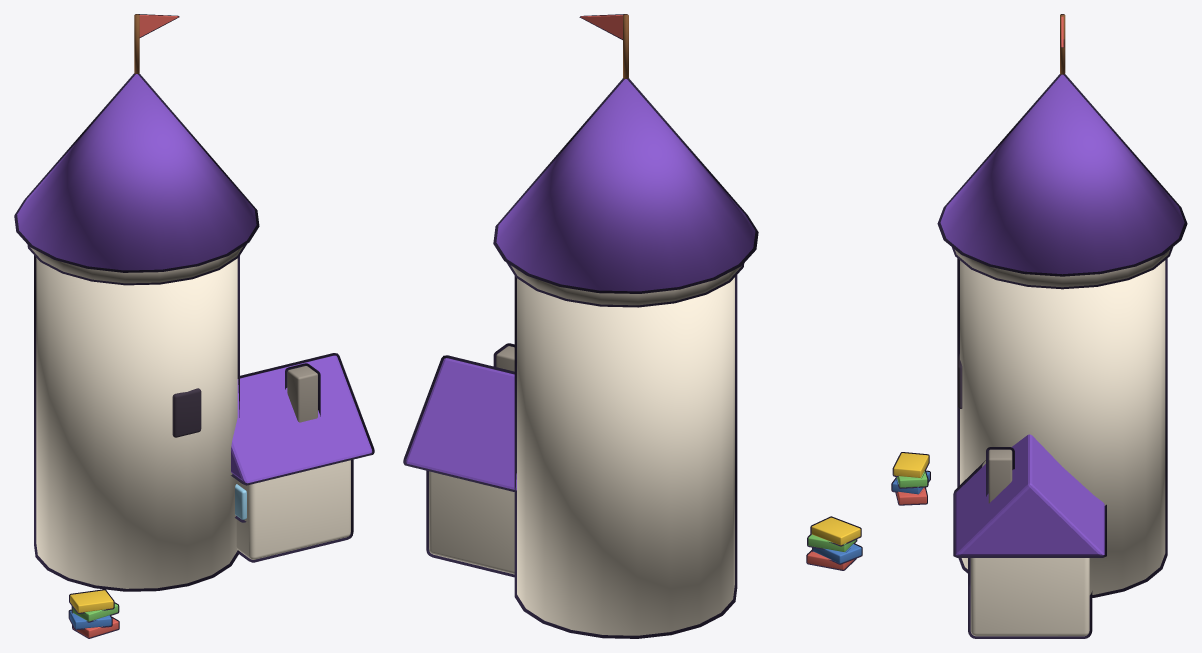
The model's file is library_2.glb.
3 renders of one model, left to right at view 1: azimuth 30°, elevation 25°; view 2: azimuth 150°, elevation 25°; view 3: azimuth 270°, elevation 25°, orthographic. The views are drawn at different scales.
Parts seen in each view (by area): view 1: tower, spire, cottage, rim, box, box.004, shape; view 2: tower, spire, cottage, rim, box.004; view 3: tower, spire, cottage, rim, box.004, box.001.
Part boxes in pixels (x1,y1,x2,y2): tower: (34, 255, 239, 591); spire: (14, 73, 259, 272); cottage: (231, 353, 374, 562); rim: (27, 244, 246, 285); box: (172, 388, 201, 437); box.004: (69, 589, 114, 613); shape: (135, 14, 179, 37); tower: (514, 275, 737, 638); spire: (493, 78, 758, 293); cottage: (403, 343, 516, 577); rim: (506, 262, 744, 307); box.004: (810, 516, 861, 546); tower: (957, 258, 1167, 597); spire: (937, 74, 1187, 276); cottage: (953, 434, 1106, 638); rim: (952, 247, 1173, 289); box.004: (892, 452, 929, 478); box.001: (895, 487, 927, 505).
Size of the model in its own units: 3.55 by 5.54 by 2.74.
